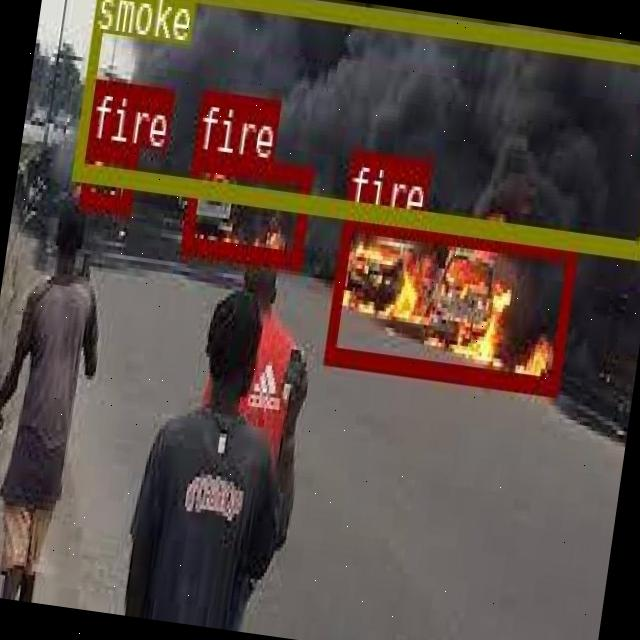fire: (322, 210, 578, 394), (180, 150, 312, 266), (78, 140, 136, 210)
smoke: (73, 0, 640, 256)
